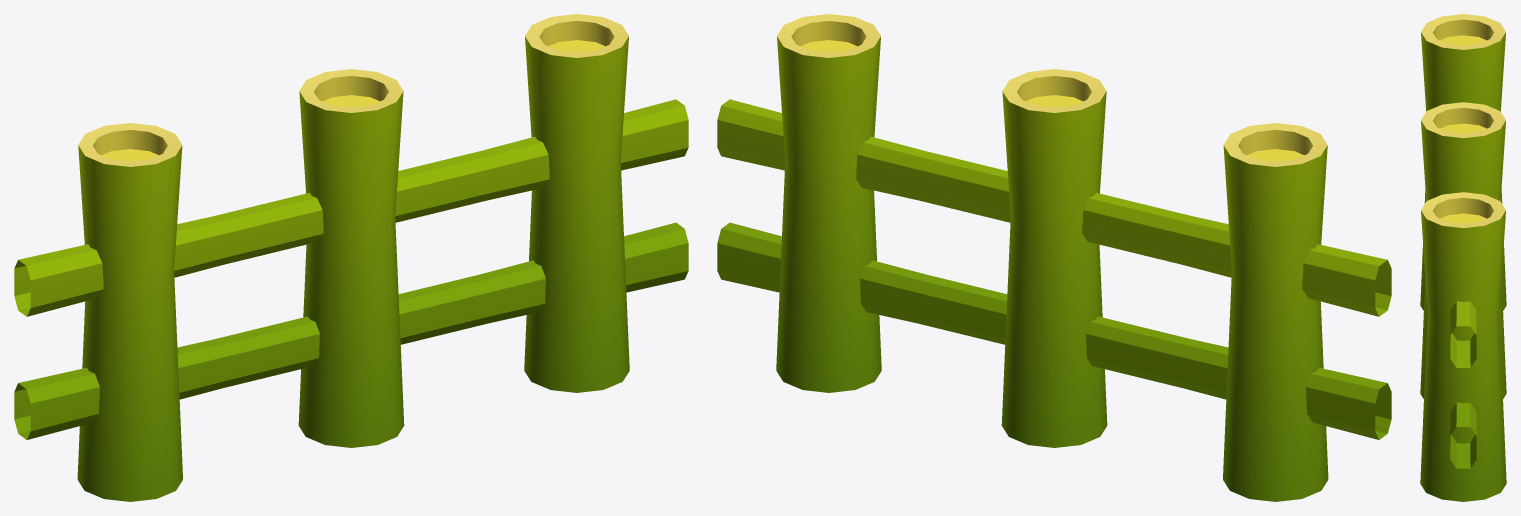
The model's file is Farm_Fence_D_01.fbx.
3 renders of one model, left to right at view 1: azimuth 30°, elevation 25°; view 2: azimuth 150°, elevation 25°; view 3: azimuth 270°, elevation 25°, orthographic. The views are drawn at different scales.
Visible parts, largest first — view 1: Farm_Fence_D_01; view 2: Farm_Fence_D_01; view 3: Farm_Fence_D_01.
Part boxes in pixels (bbox=[...]): Farm_Fence_D_01: bbox=[14, 14, 688, 501]; Farm_Fence_D_01: bbox=[717, 14, 1391, 501]; Farm_Fence_D_01: bbox=[1420, 14, 1506, 501].
Bounding box in the file's own units: 200 × 97.21 × 27.8.
